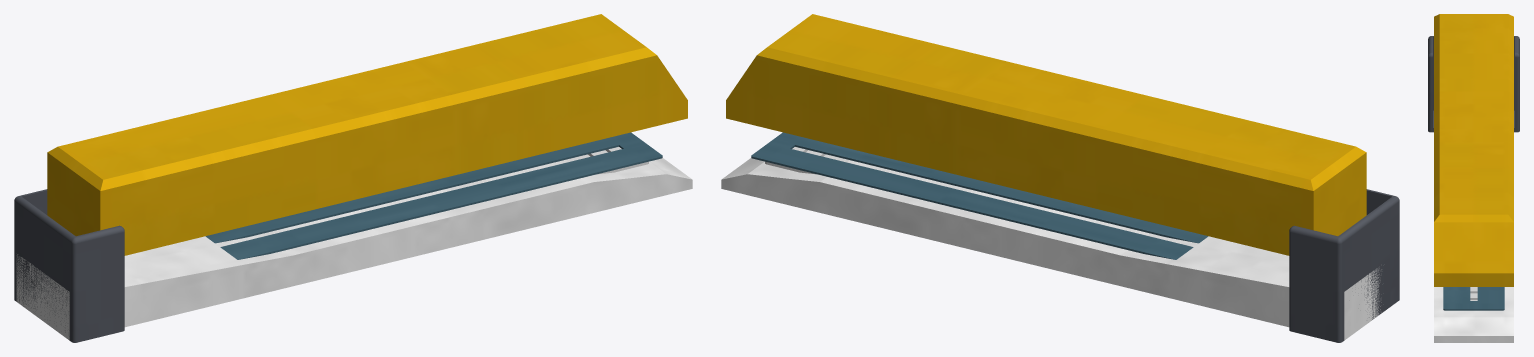
Rendered from Handtools_Stapler__0112.glb.
The picture shows the model from 3 angles, left to right: view 1: azimuth 30°, elevation 25°; view 2: azimuth 150°, elevation 25°; view 3: azimuth 270°, elevation 25°; orthographic projection. The views are drawn at different scales.
Visible parts, largest first — view 1: top_arm::arm_shell, base::base_body, base::tray_liner, base::rear_housing; view 2: top_arm::arm_shell, base::base_body, base::tray_liner, base::rear_housing; view 3: top_arm::arm_shell, base::base_body, base::tray_liner, base::rear_housing, base::anvil_plate.
Part boxes in pixels (box(x1,y1,x2,y2)): top_arm::arm_shell: box(47, 14, 687, 255); base::base_body: box(16, 158, 692, 340); base::tray_liner: box(205, 132, 662, 259); base::rear_housing: box(14, 189, 124, 342); top_arm::arm_shell: box(726, 14, 1366, 255); base::base_body: box(721, 158, 1381, 340); base::tray_liner: box(751, 132, 1208, 259); base::rear_housing: box(1289, 189, 1399, 342); top_arm::arm_shell: box(1434, 14, 1513, 286); base::base_body: box(1434, 287, 1513, 342); base::tray_liner: box(1443, 287, 1504, 310); base::rear_housing: box(1428, 36, 1519, 132); base::anvil_plate: box(1470, 287, 1477, 300).
Bounding box in the file's own units: 0.2842 × 0.0655 × 0.0479.
Materials: 7 (6 with a texture image).
